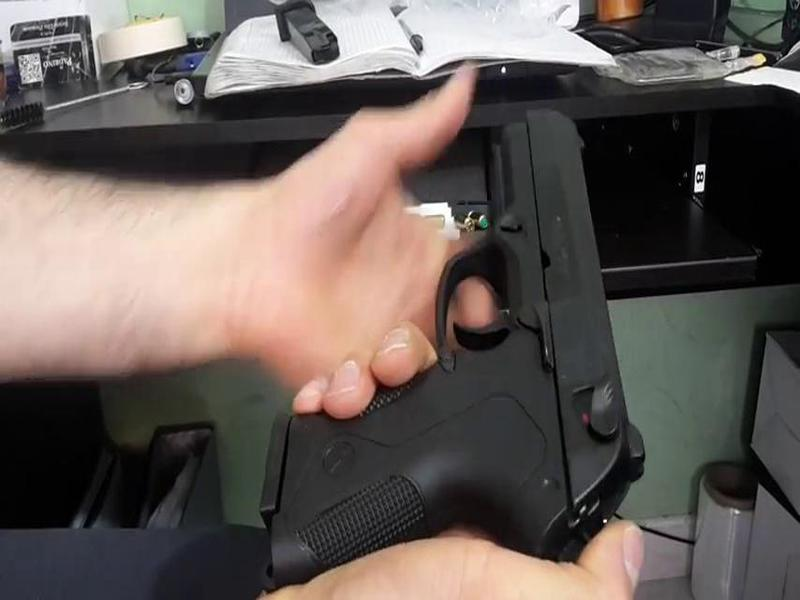Pistola: (265, 79, 646, 574)
